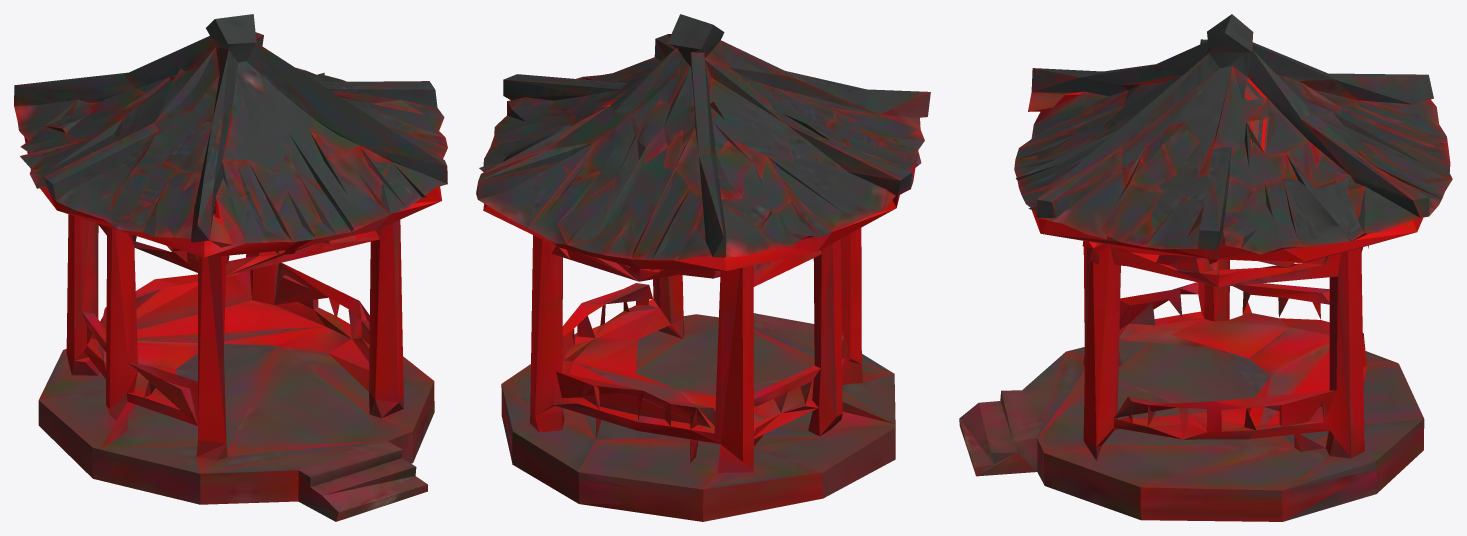
The model's file is ship_tower.glb.
The picture shows the model from 3 angles, left to right: view 1: azimuth 30°, elevation 25°; view 2: azimuth 150°, elevation 25°; view 3: azimuth 270°, elevation 25°; orthographic projection. The views are drawn at different scales.
Bounding box in the file's own units: 1.78 × 1.78 × 1.9.
Materials: 1 (1 with a texture image).
